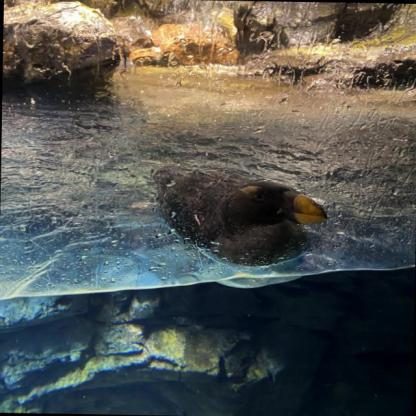puffin: (148, 157, 330, 290)
